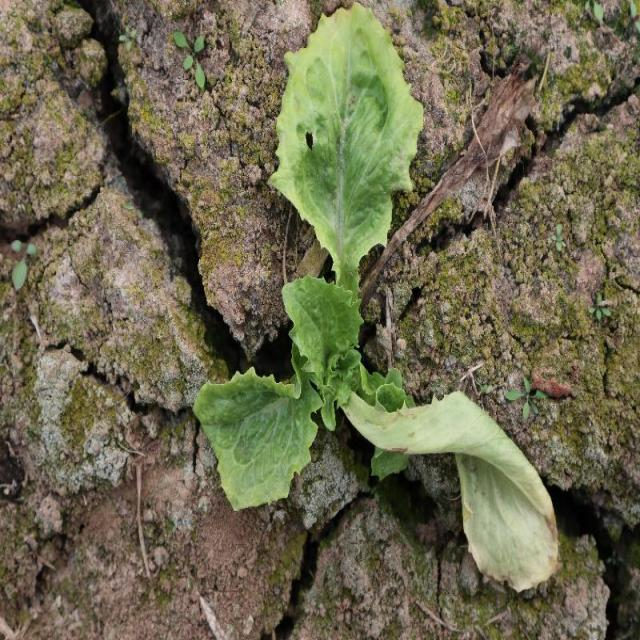crop: (194, 6, 428, 509)
